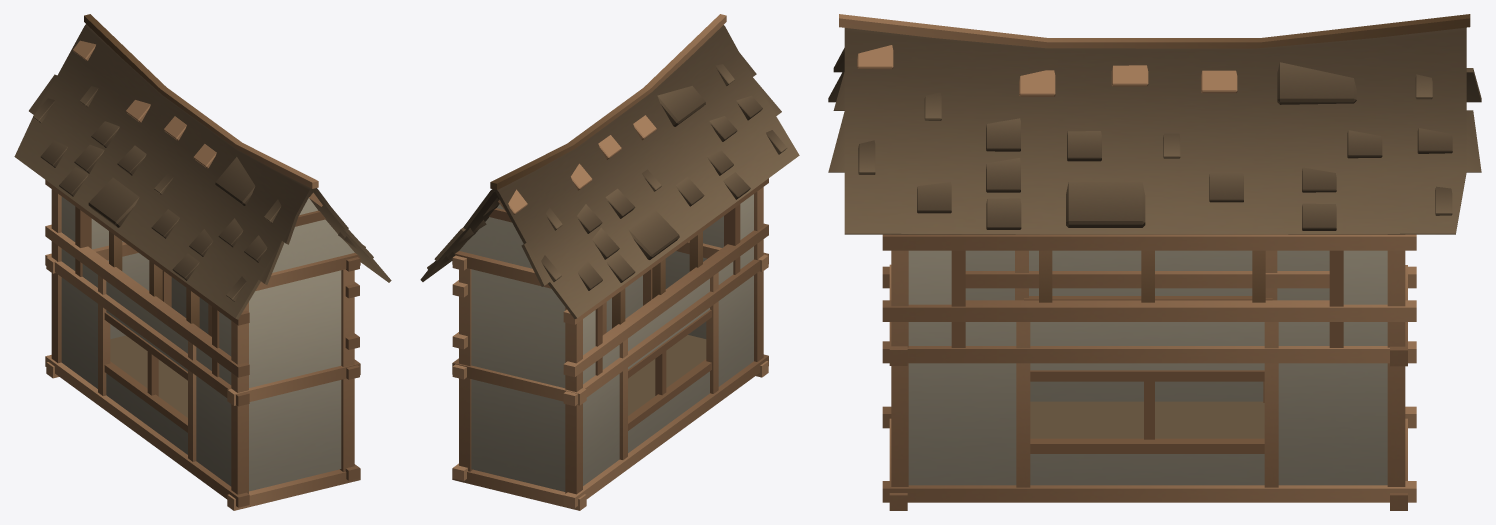
Rendered from ZLP_Build_A_13.FBX.
3 views of the same model, side by side, from view 1: azimuth 30°, elevation 25°; view 2: azimuth 150°, elevation 25°; view 3: azimuth 270°, elevation 25° (orthographic). The views are drawn at different scales.
Visible parts, largest first — view 1: ZLP_Build_A_13; view 2: ZLP_Build_A_13; view 3: ZLP_Build_A_13.
Part boxes in pixels (x1,y1,x2,y2): ZLP_Build_A_13: (14, 14, 391, 510); ZLP_Build_A_13: (420, 14, 799, 510); ZLP_Build_A_13: (828, 14, 1481, 510).
Bounding box in the file's own units: 217 × 431 × 564.
